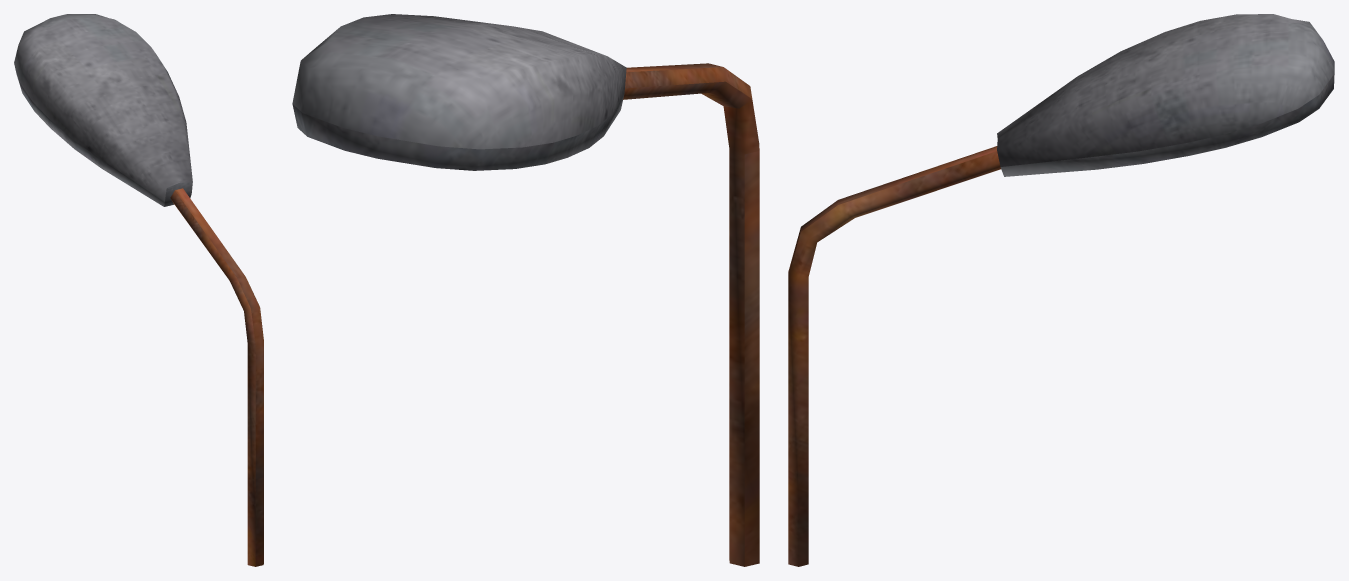
Rendered from sov_lamp.glb.
The picture shows the model from 3 angles, left to right: view 1: azimuth 30°, elevation 25°; view 2: azimuth 150°, elevation 25°; view 3: azimuth 270°, elevation 25°; orthographic projection. The views are drawn at different scales.
Parts seen in each view (by area): view 1: Plane_Material.001_0, Plane.001_Material.002_0.004, Plane.001_Material.002_0.005, Plane_Material.001_0.001, Plane_Material.001_0.003; view 2: Plane_Material.001_0, Plane.001_Material.002_0.005, Plane.001_Material.002_0.003, Plane_Material.001_0.001, Plane.001_Material.002_0.001; view 3: Plane_Material.001_0, Plane.001_Material.002_0.002, Plane_Material.001_0.001, Plane.001_Material.002_0.004.
Boxes of the visible parts, <box> form: Plane_Material.001_0: <box>14,14,192,199</box>; Plane.001_Material.002_0.004: <box>175,188,263,566</box>; Plane.001_Material.002_0.005: <box>170,190,255,566</box>; Plane_Material.001_0.001: <box>14,64,164,206</box>; Plane_Material.001_0.003: <box>164,182,192,206</box>; Plane_Material.001_0: <box>292,14,626,149</box>; Plane.001_Material.002_0.005: <box>625,67,759,566</box>; Plane.001_Material.002_0.003: <box>723,99,759,566</box>; Plane_Material.001_0.001: <box>292,94,624,170</box>; Plane.001_Material.002_0.001: <box>623,81,751,108</box>; Plane_Material.001_0: <box>997,14,1334,166</box>; Plane.001_Material.002_0.002: <box>788,151,1000,566</box>; Plane_Material.001_0.001: <box>1000,73,1334,176</box>; Plane.001_Material.002_0.004: <box>788,146,997,275</box>.
Bounding box in the file's own units: 2.16 × 6.9 × 6.45.
2 materials, 2 textured.
